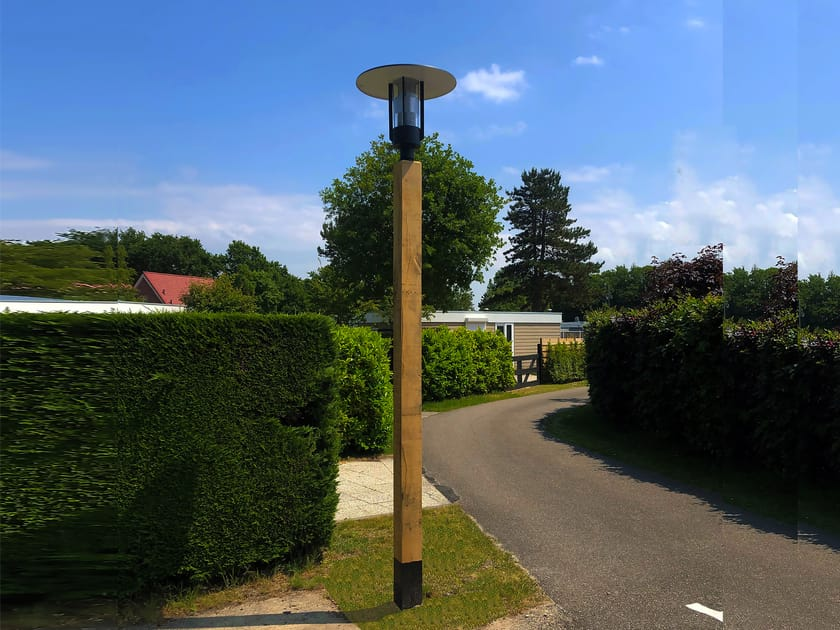light_pole: (382, 68, 440, 616)
